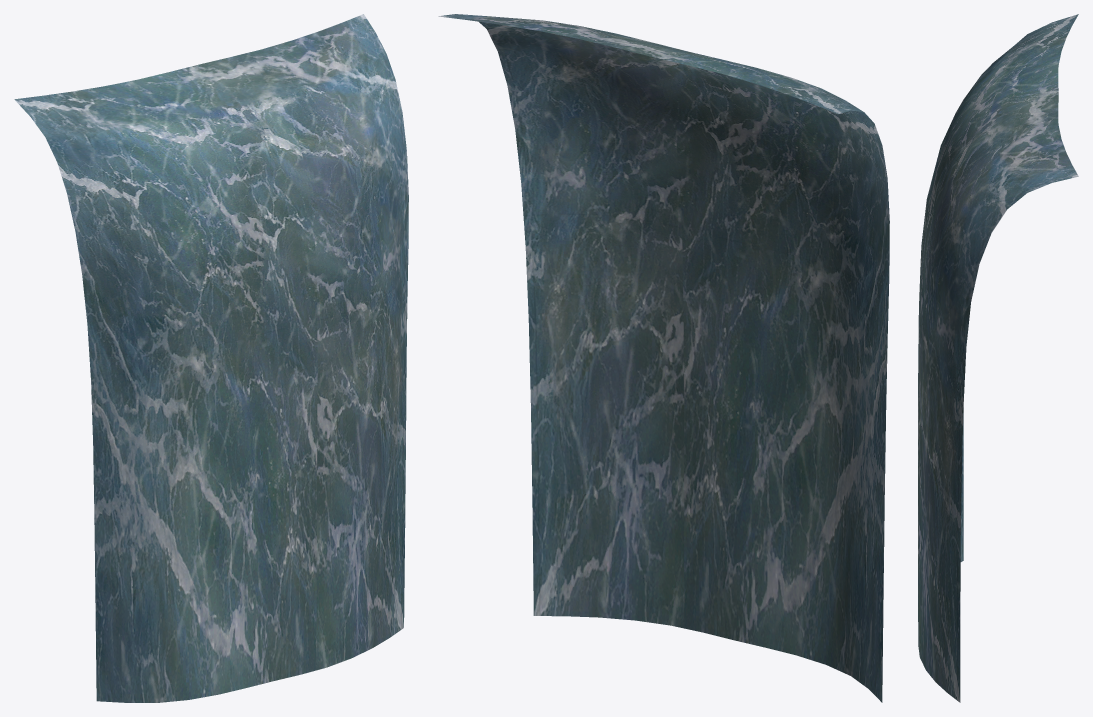
The model's file is waterfall_meash2.fbx.
3 views of the same model, side by side, from view 1: azimuth 30°, elevation 25°; view 2: azimuth 150°, elevation 25°; view 3: azimuth 270°, elevation 25° (orthographic). The views are drawn at different scales.
Visible parts, largest first — view 1: Plane001; view 2: Plane001; view 3: Plane001.
Boxes of the visible parts, left/top/right/bottom form: Plane001: left=14, top=14, right=408, bottom=702; Plane001: left=438, top=14, right=889, bottom=702; Plane001: left=918, top=14, right=1078, bottom=702.
Bounding box in the file's own units: 1.16 × 0.4858 × 1.79.
